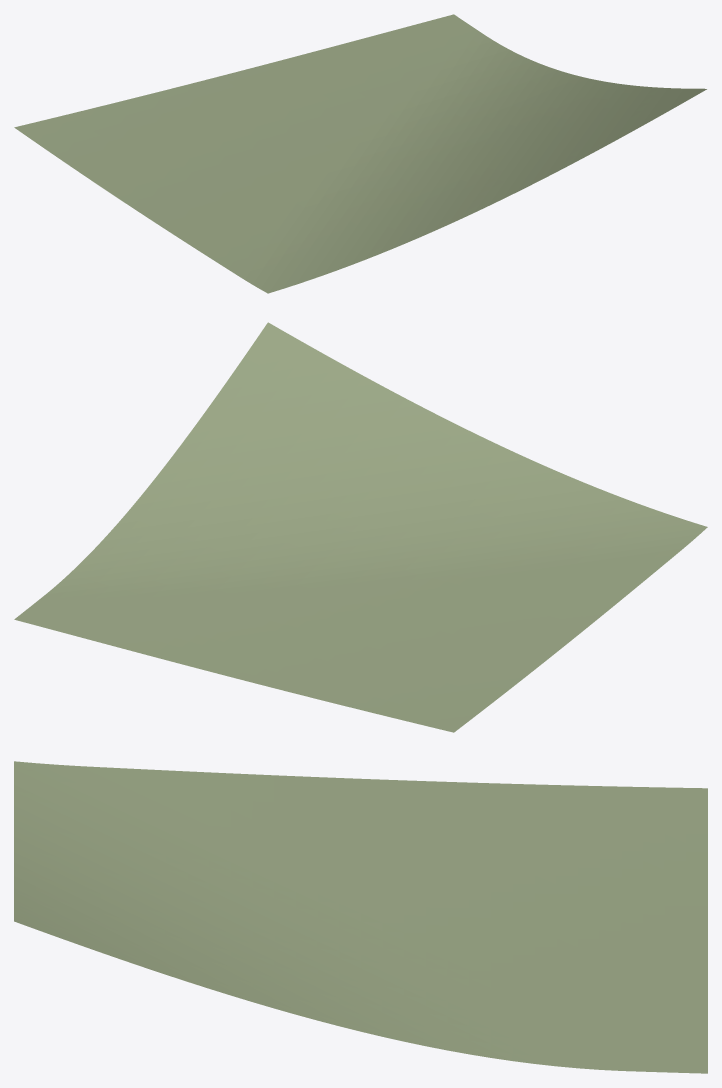
Rendered from expanse-13-2.glb.
3 views of the same model, one above another, from view 1: azimuth 30°, elevation 25°; view 2: azimuth 150°, elevation 25°; view 3: azimuth 270°, elevation 25° (orthographic). The views are drawn at different scales.
Visible parts, largest first — view 1: expanse-13-2; view 2: expanse-13-2; view 3: expanse-13-2.
Boxes of the visible parts, bbox=[...] form: expanse-13-2: bbox=[14, 14, 706, 293]; expanse-13-2: bbox=[14, 322, 707, 732]; expanse-13-2: bbox=[14, 761, 707, 1073].
Bounding box in the file's own units: 256 × 65.22 × 256.
